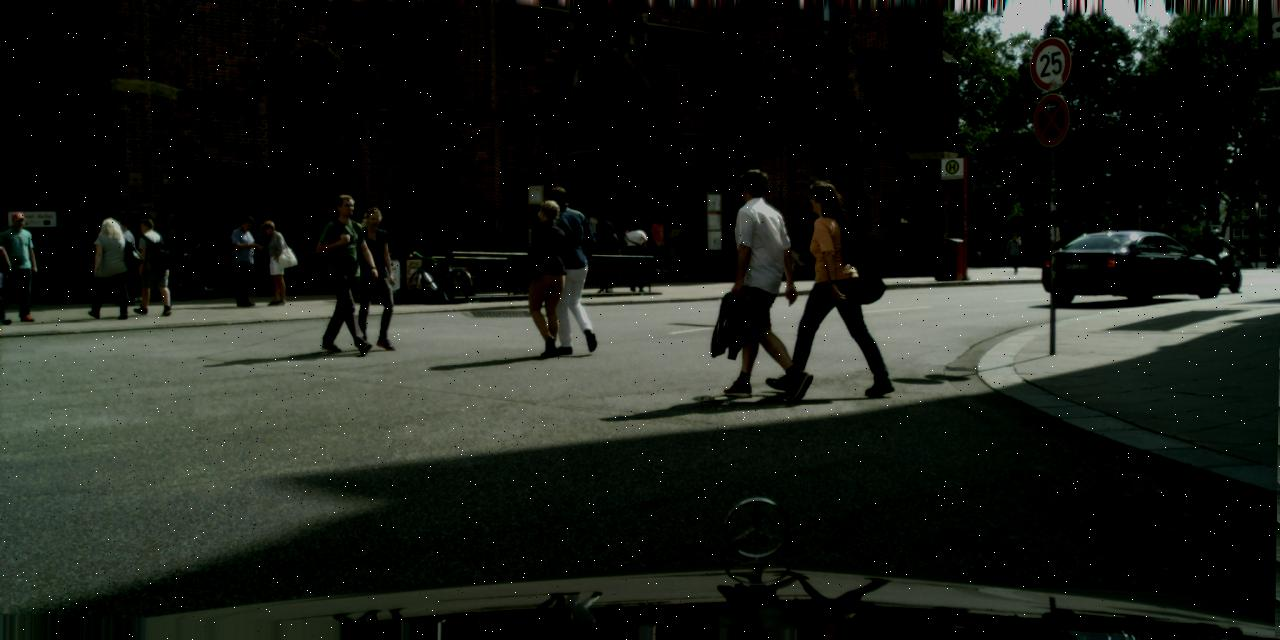ped: (714, 167, 808, 398), (784, 180, 871, 392), (536, 184, 605, 354), (316, 194, 380, 354), (519, 199, 583, 356), (344, 207, 404, 351), (88, 216, 130, 318), (131, 217, 171, 315), (0, 211, 36, 319), (227, 215, 265, 306), (107, 218, 142, 304), (255, 220, 290, 306), (620, 220, 651, 294), (121, 226, 151, 301), (592, 220, 620, 289), (1205, 228, 1229, 288), (649, 215, 672, 272), (672, 222, 695, 278), (583, 207, 601, 251), (1006, 232, 1022, 272), (1269, 248, 1277, 267)
